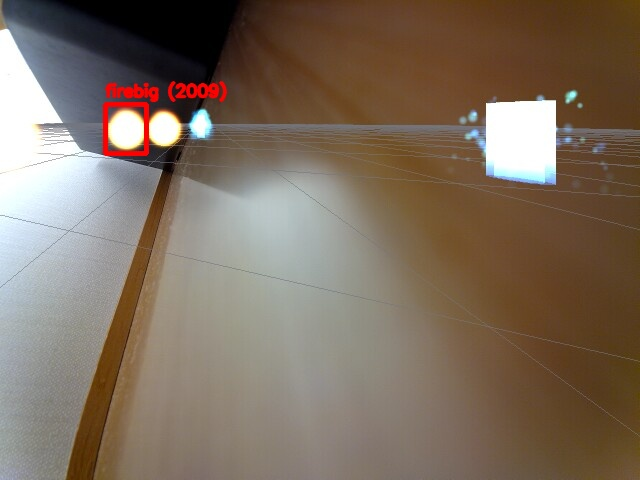firebig: (105, 104, 146, 153)
